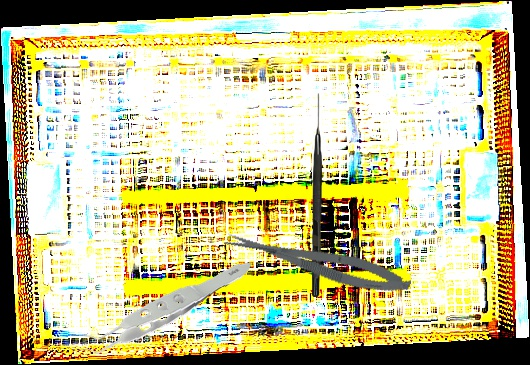Hook Surgical: (312, 93, 322, 297)
Micro Scissor: (221, 220, 414, 303)
Tissue Forceps: (67, 248, 252, 365)
